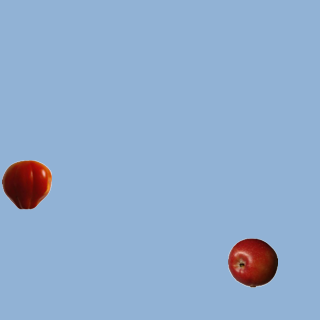Apple Braeburn: (227, 237, 277, 287)
Tomato 1: (1, 159, 51, 209)
